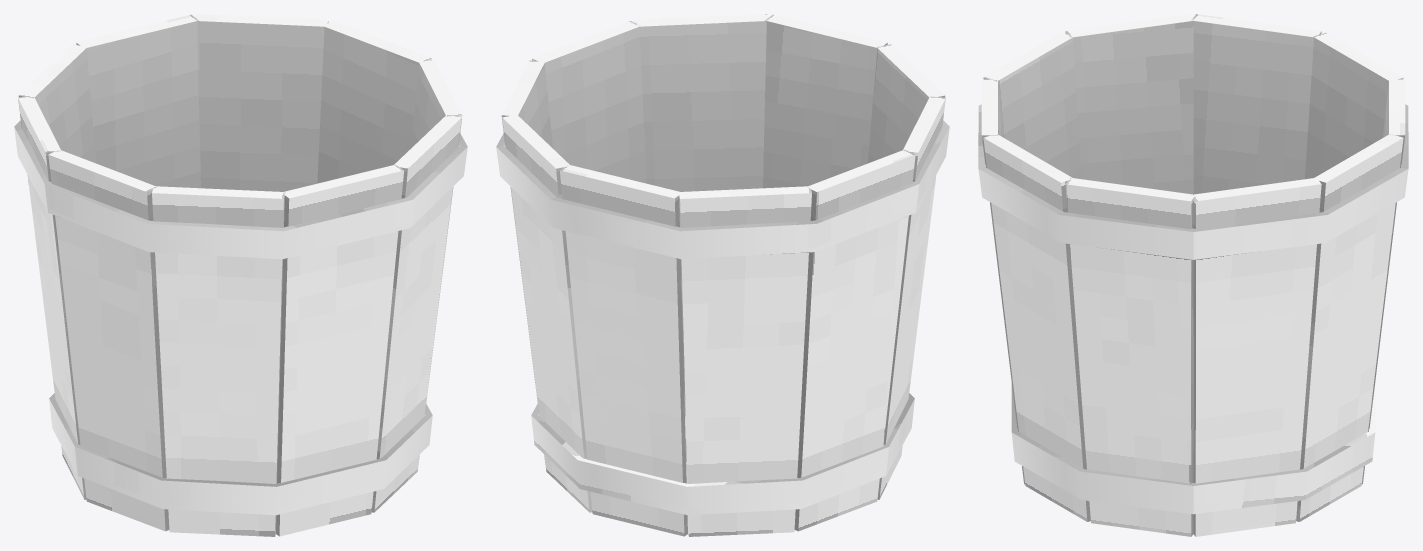
Rendered from CrateWoodenBucket.glb.
The picture shows the model from 3 angles, left to right: view 1: azimuth 30°, elevation 25°; view 2: azimuth 150°, elevation 25°; view 3: azimuth 270°, elevation 25°; orthographic projection.
Parts seen in each view (by area): view 1: CrateWoodenBucket; view 2: CrateWoodenBucket; view 3: CrateWoodenBucket.
Part boxes in pixels (left/top/right/bottom): CrateWoodenBucket: left=14, top=14, right=467, bottom=536; CrateWoodenBucket: left=496, top=14, right=949, bottom=536; CrateWoodenBucket: left=978, top=14, right=1408, bottom=536.
Bounding box in the file's own units: 0.2238 × 0.195 × 0.2146.
Materials: 1 (1 with a texture image).
